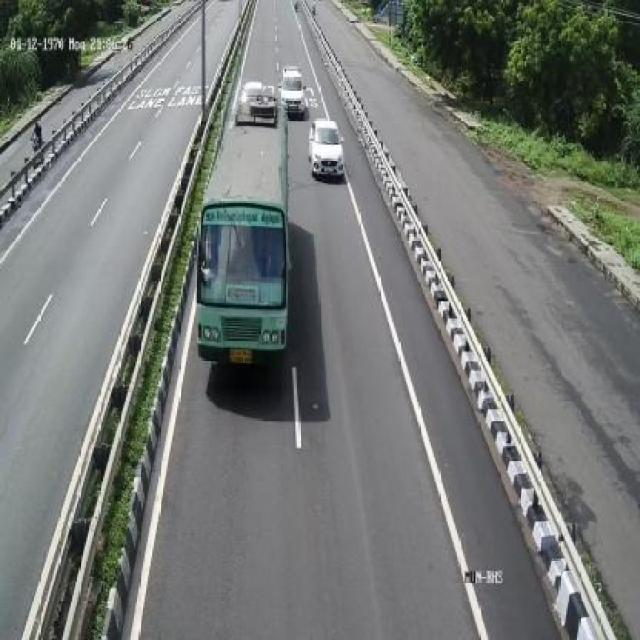car: (310, 112, 344, 183), (283, 65, 309, 120)
